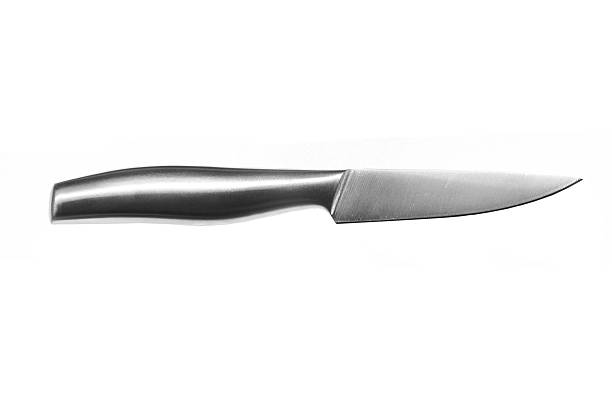k1: (253, 160, 591, 232)
